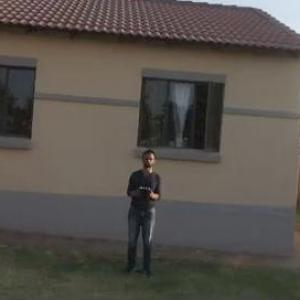follow: (120, 140, 167, 287)
